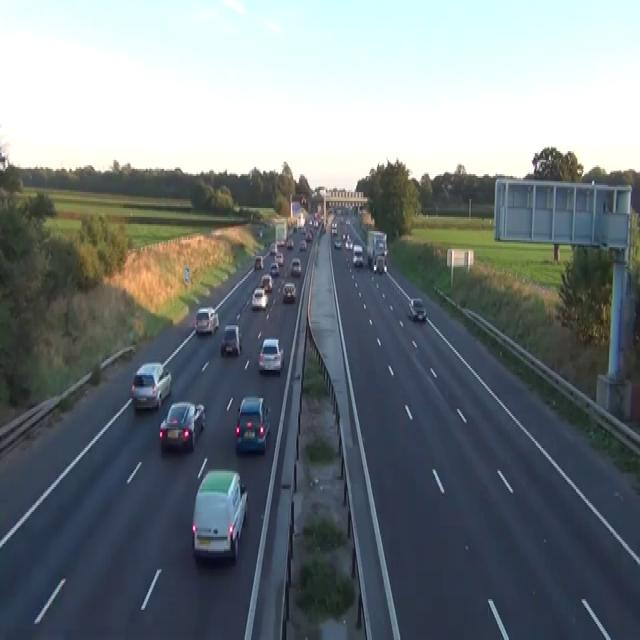Car: (191, 468, 248, 564), (159, 400, 205, 452), (235, 395, 270, 453), (130, 361, 171, 409), (258, 338, 284, 373), (220, 324, 241, 356), (195, 306, 219, 334), (408, 297, 426, 320), (251, 286, 268, 310), (282, 281, 296, 302), (373, 254, 387, 274), (352, 244, 363, 266), (260, 274, 273, 292), (290, 256, 301, 276), (254, 254, 264, 270), (270, 262, 279, 276), (275, 251, 284, 265), (212, 311, 219, 329), (269, 242, 277, 254), (334, 236, 341, 249), (305, 229, 312, 242), (299, 238, 306, 251), (345, 236, 352, 249), (331, 220, 337, 234), (286, 238, 293, 249), (276, 238, 285, 246), (307, 215, 313, 226), (313, 218, 319, 228), (298, 226, 305, 233), (301, 196, 306, 204), (345, 217, 350, 224), (342, 231, 347, 238), (258, 230, 262, 237), (293, 226, 297, 233)
Truck: (366, 229, 388, 274), (274, 219, 287, 245)
